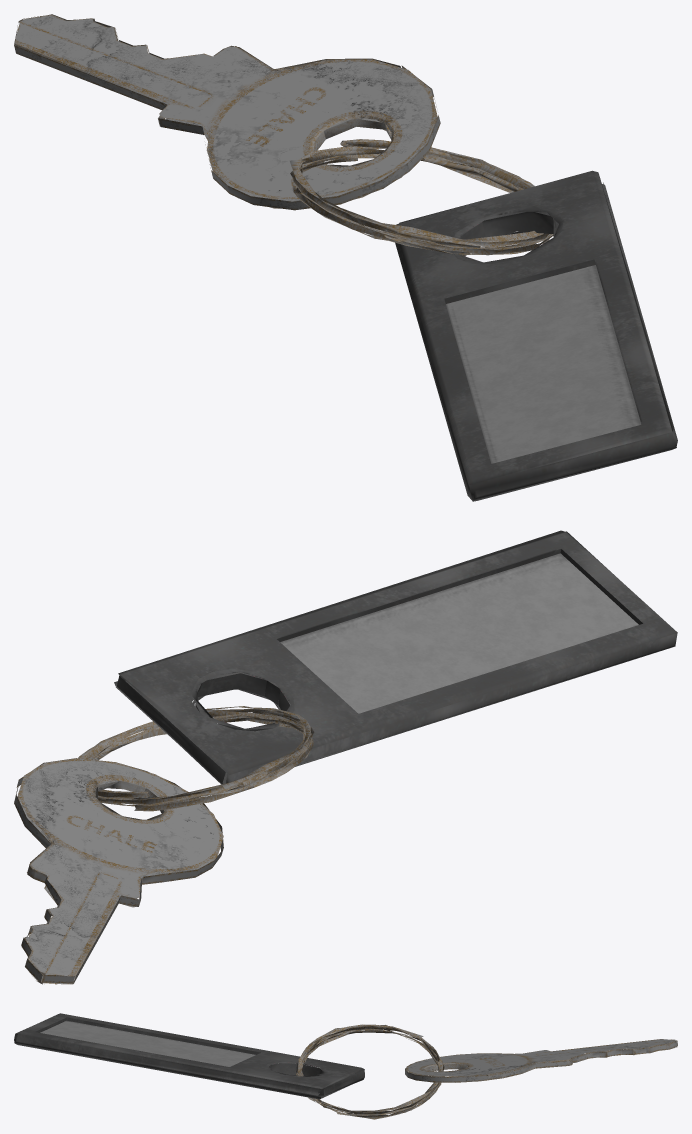
Rendered from key_with_tag.glb.
3 renders of one model, top to bottom at view 1: azimuth 30°, elevation 25°; view 2: azimuth 150°, elevation 25°; view 3: azimuth 270°, elevation 25°, orthographic. The views are drawn at different scales.
Visible parts, largest first — view 1: SM_KeyTag, SM_Key, SM_Ring; view 2: SM_KeyTag, SM_Key, SM_Ring; view 3: SM_KeyTag, SM_Key, SM_Ring.
Part boxes in pixels (x1=…): SM_KeyTag: x1=395, y1=170, x2=677, y2=501; SM_Key: x1=14, y1=14, x2=440, y2=210; SM_Ring: x1=290, y1=139, x2=553, y2=255; SM_KeyTag: x1=114, y1=530, x2=677, y2=784; SM_Key: x1=14, y1=758, x2=223, y2=984; SM_Ring: x1=78, y1=706, x2=314, y2=811; SM_KeyTag: x1=14, y1=1013, x2=364, y2=1099; SM_Key: x1=405, y1=1039, x2=677, y2=1082; SM_Ring: x1=296, y1=1024, x2=444, y2=1119.
Size of the model in its own units: 0.0495 by 0.0086 by 0.1395.
Materials: 3 (3 with a texture image).
